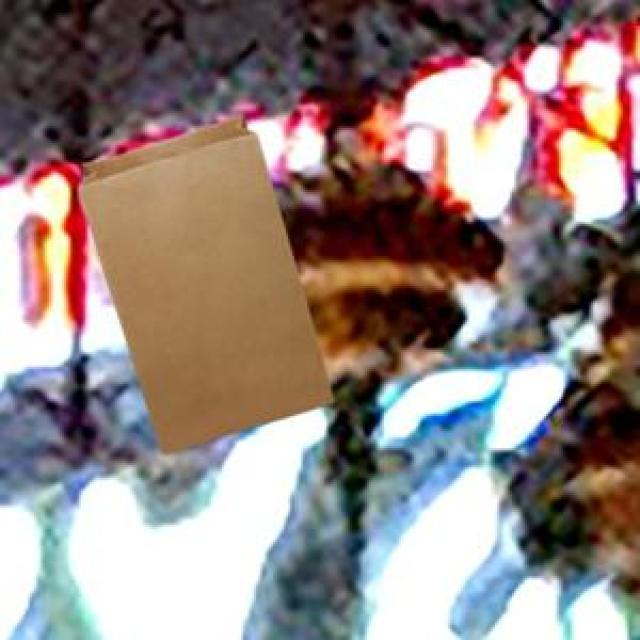Paper_Bag: (76, 112, 330, 451)
